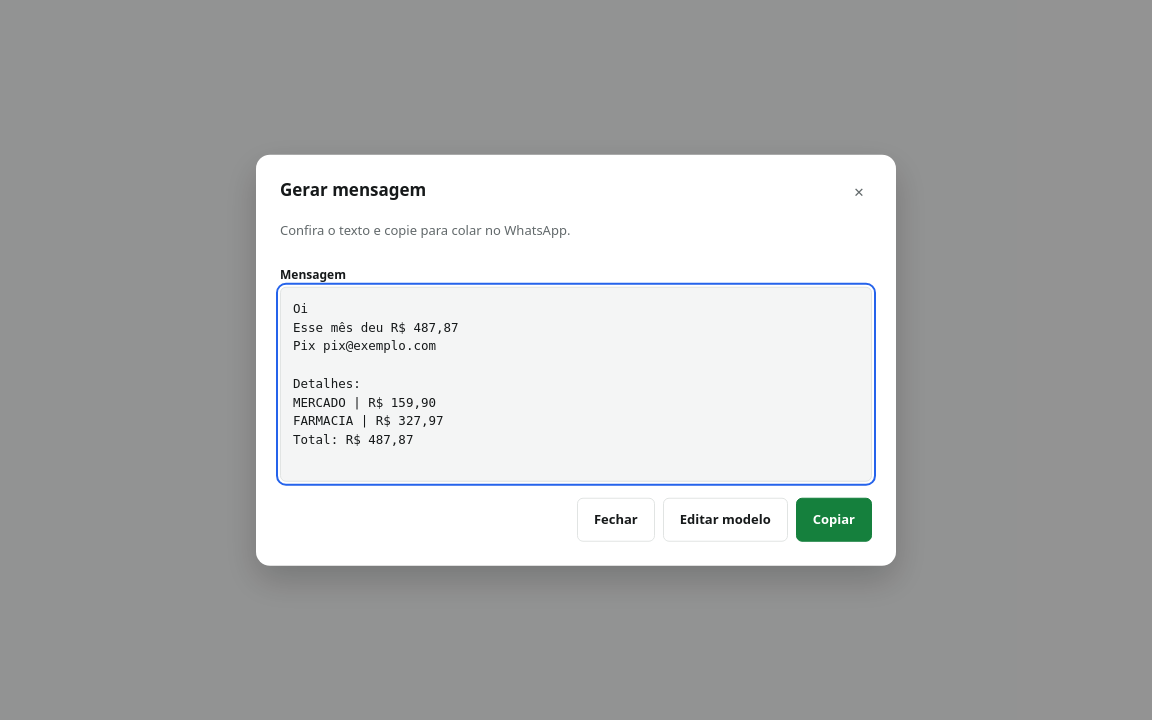
Test: JanelaGerarMensagem › se a cópia falhar: avisa, não fecha e deixa o texto selecionado para copiar na mão
This screenshot has width=1152, height=720.
Click the button "Copiar" at (834,519), box top-left (796, 497), bottom-right (872, 541)
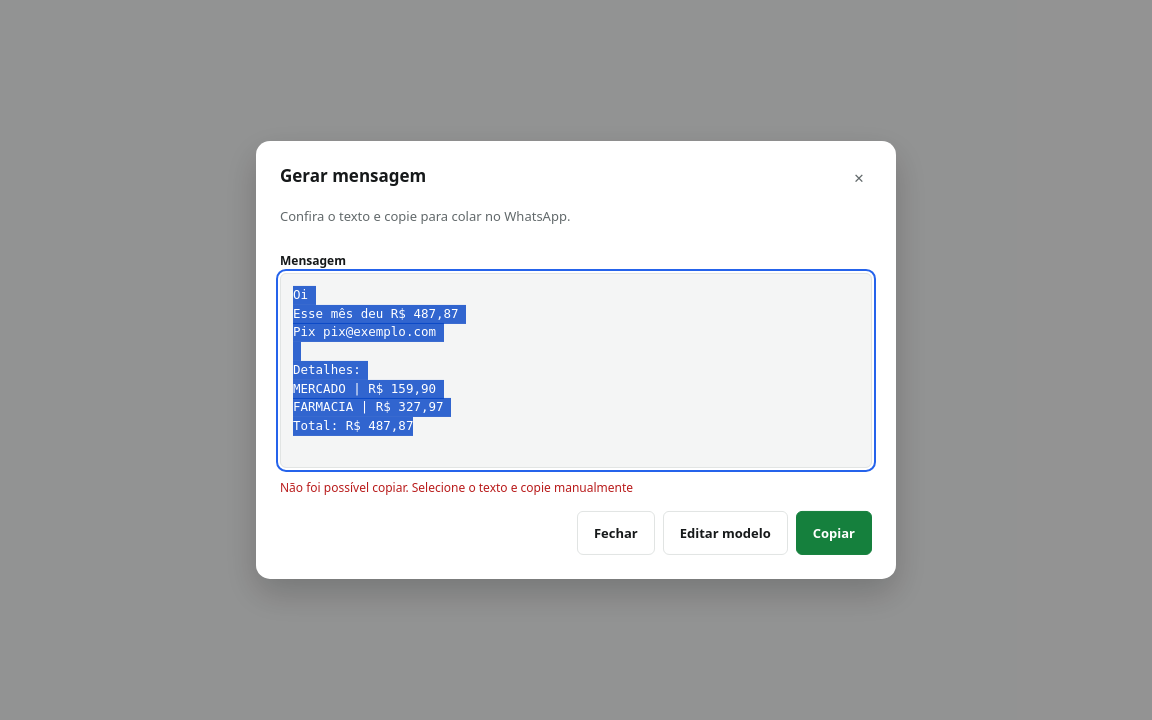
Result: the message reads "Não foi possível copiar. Selecione o texto e copie manualmente" at top-left (280, 478), bottom-right (633, 496)
